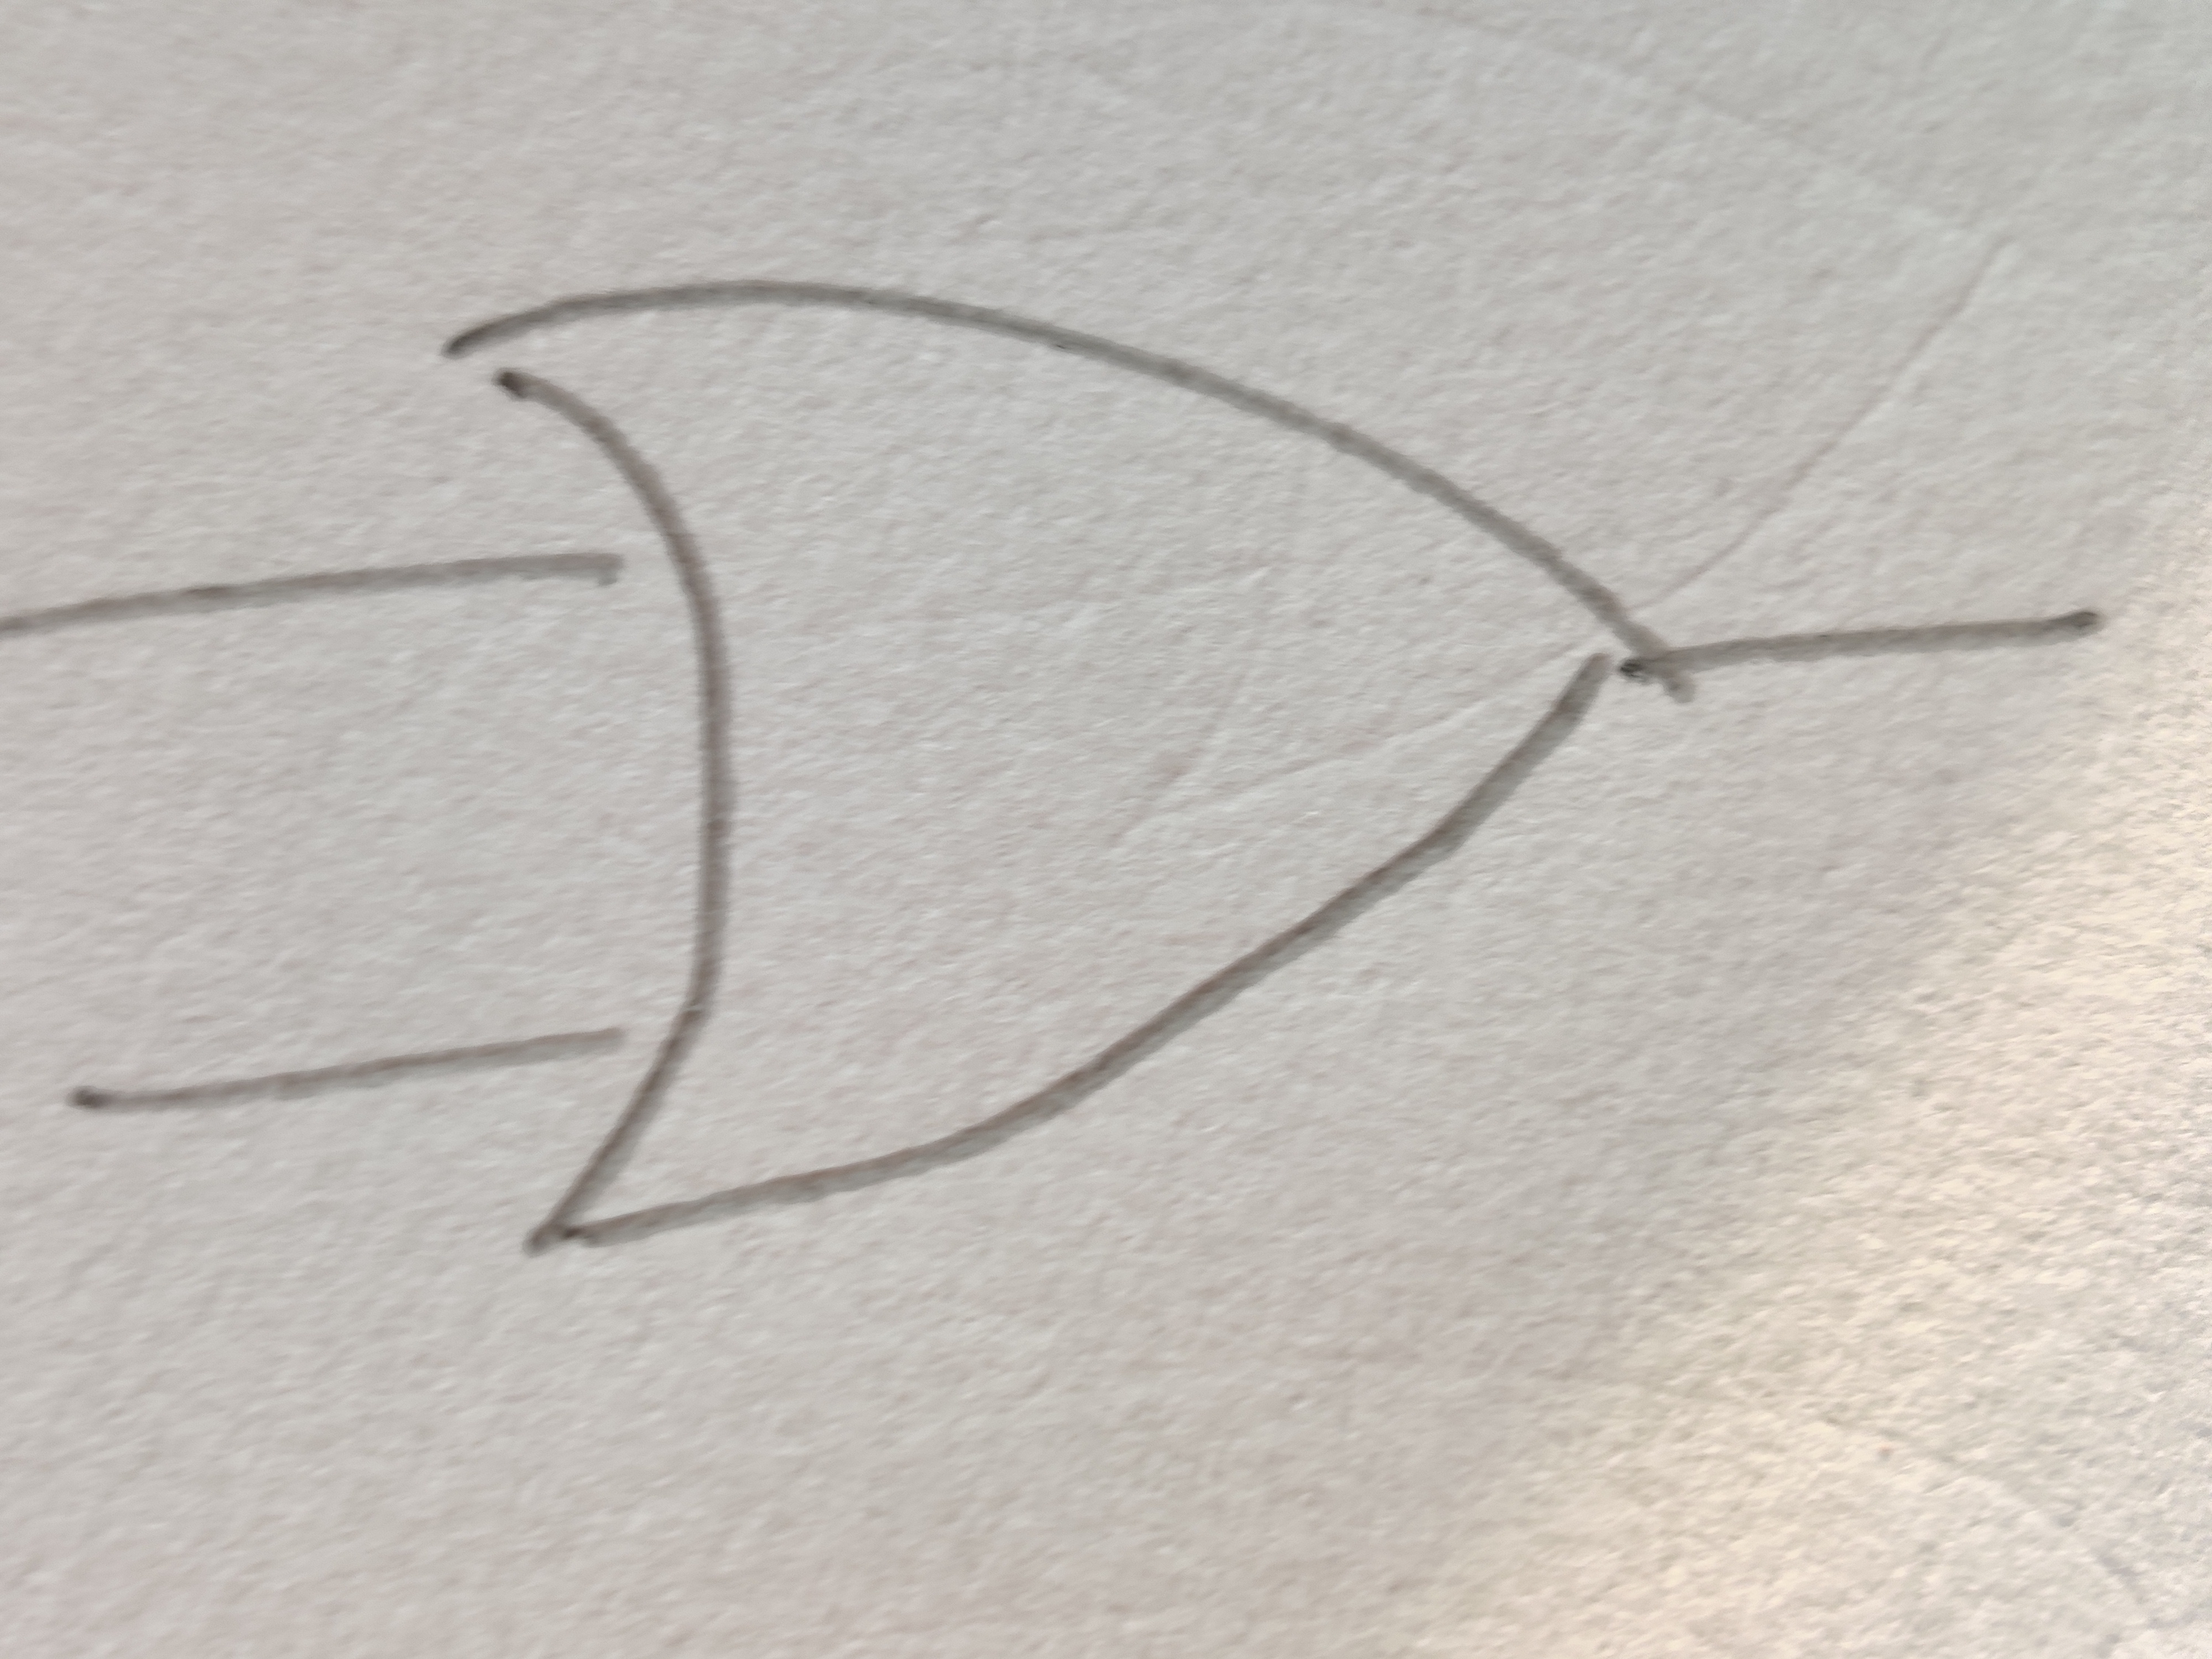or: (465, 281, 1669, 1251)
